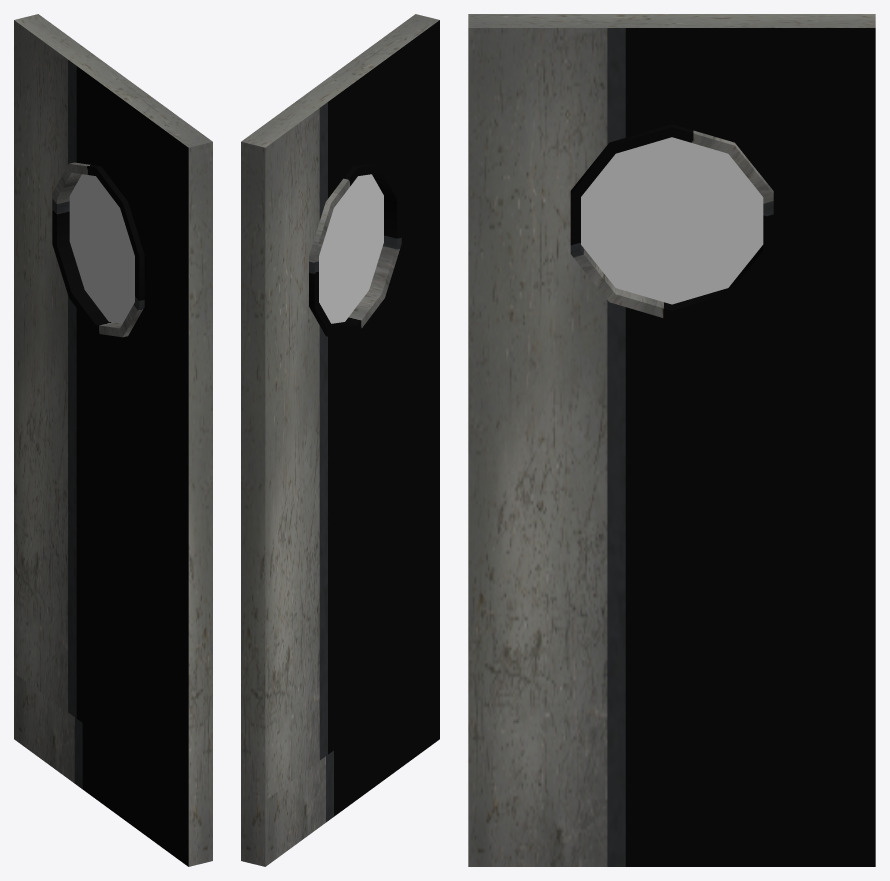
File: door.fbx
3 renders of one model, left to right at view 1: azimuth 30°, elevation 25°; view 2: azimuth 150°, elevation 25°; view 3: azimuth 270°, elevation 25°, orthographic. The views are drawn at different scales.
Parts seen in each view (by area): view 1: Door_C; view 2: Door_C; view 3: Door_C.
Boxes of the visible parts, x1,y1,x2,y2 form: Door_C: (14,14,212,866); Door_C: (241,14,439,866); Door_C: (468,14,875,866).
Bounding box in the file's own units: 13.18 × 258 × 113.
